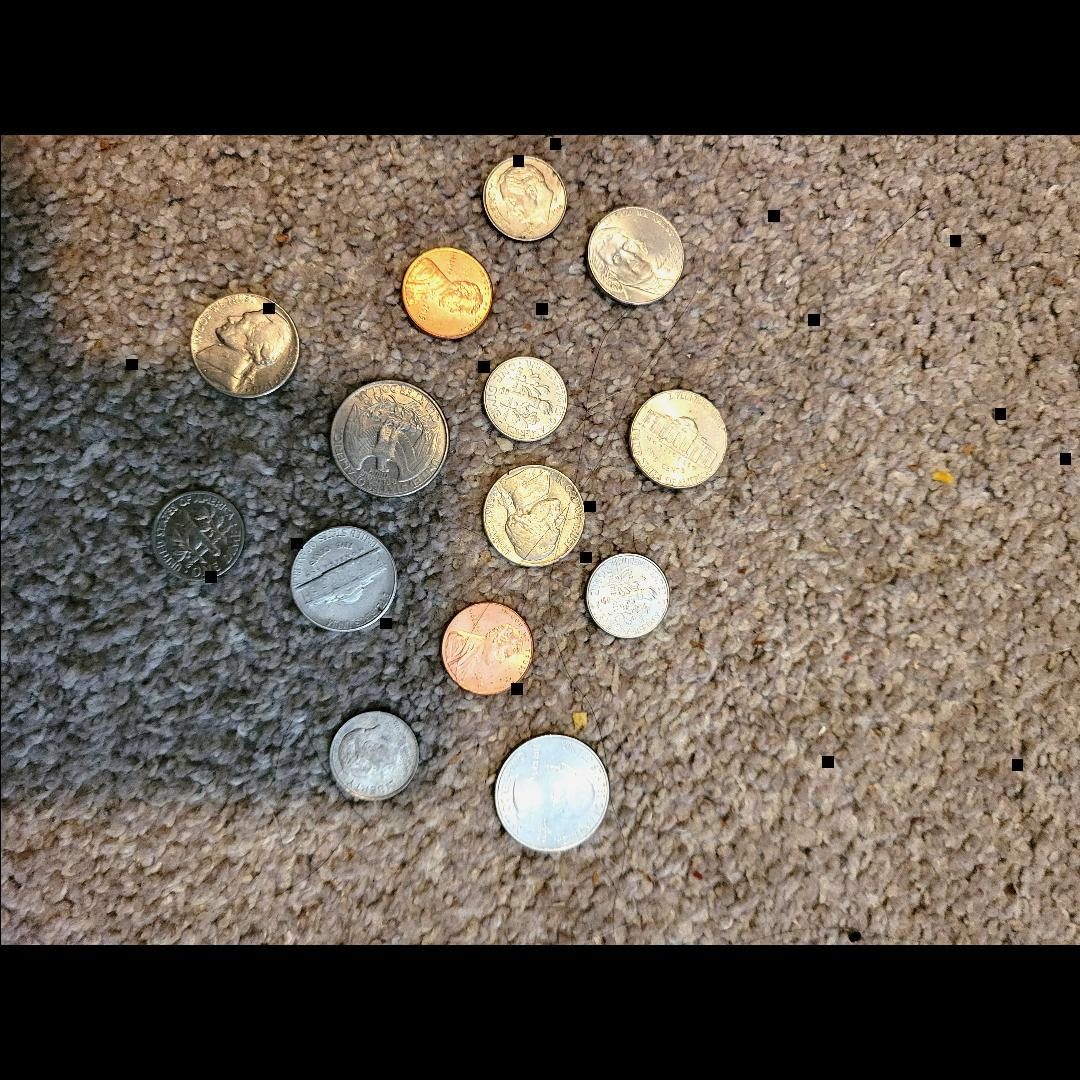Dime: (146, 485, 248, 591), (326, 706, 424, 808), (478, 353, 568, 451), (476, 152, 568, 246), (580, 549, 670, 645)
Nickel: (287, 524, 401, 638), (186, 290, 300, 402), (481, 458, 595, 570), (623, 382, 735, 490), (579, 204, 687, 312)
Penny: (399, 242, 499, 342), (439, 600, 539, 700)
Quarter: (324, 379, 453, 500), (487, 734, 616, 854)
